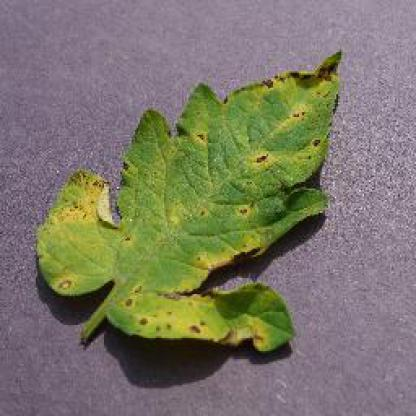bad leaf: (39, 44, 354, 376)
